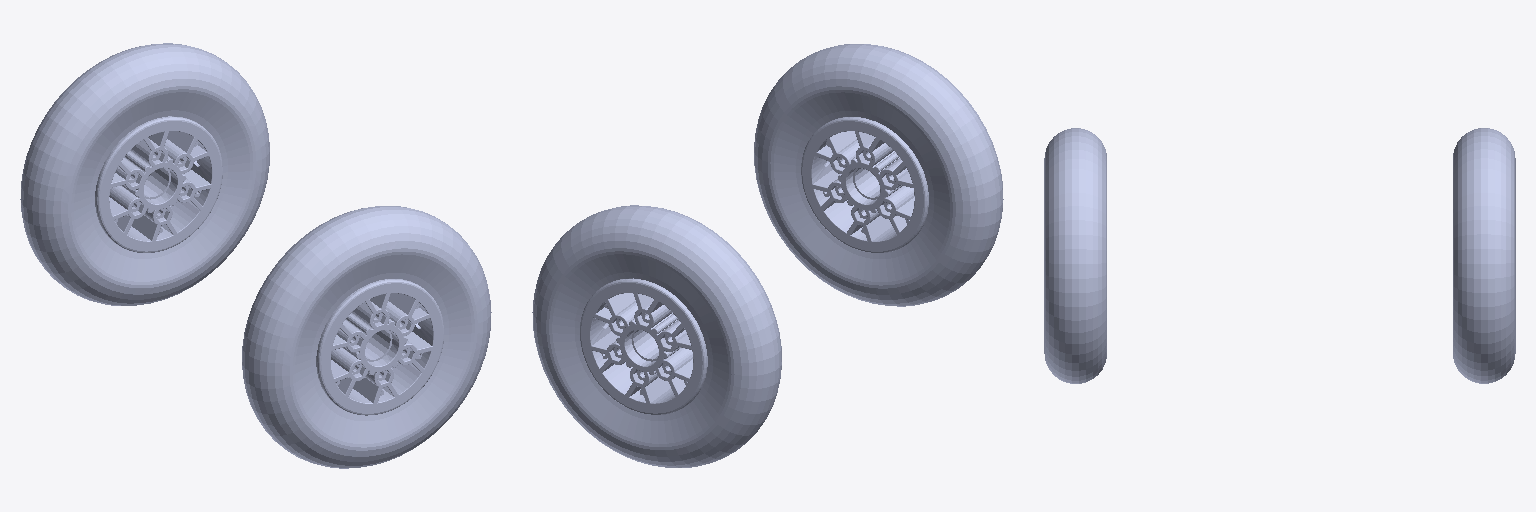
The robot description file, URDF, robot "trx_robot":
<robot
  name="trx_robot">
  <link
    name="base_footprint" />
  <joint
    name="base_footprint_joint"
    type="fixed">
    <origin
      xyz="0 0 0.1249217"
      rpy="0 0 0" />
    <parent
      link="base_footprint" />
    <child
      link="base_link" />
    <axis
      xyz="0 0 0" />
  </joint>
  <link
    name="base_link">
    <inertial>
      <origin
        xyz="-0.0692440825092598 0.0182922624656937 0.237170529840157"
        rpy="0 0 0" />
      <mass
        value="30" />
        <inertia
          ixx="0.31639"
          ixy="-9.1727E-05"
          ixz="-0.093044"
          iyy="0.17997"
          iyz="5.3231E-05"
          izz="0.16693" />
        </inertial>
    <visual>
      <origin
        xyz="0 0 0"
        rpy="0 0 0" />
      <geometry>
        <mesh
          filename="package://mobilican_description/trx/meshes/base_link.STL" />
      </geometry>
      <material
        name="">
        <color
          rgba="0.792156862745098 0.819607843137255 0.933333333333333 1" />
      </material>
    </visual>
    <collision>
      <origin
        xyz="-0.085 0 0.099"
        rpy="0 0 0" />
      <geometry>
        <box size="0.505 0.49 0.30"/>
      </geometry>
    </collision>
  </link>
  <link
    name="wheel_front_left">
    <inertial>
      <origin
        xyz="-1.21644384353906E-05 5.02355698706047E-09 -9.95261350565096E-07"
        rpy="0 0 0" />
      <mass
        value="1.19468309242743" />
      <inertia
        ixx="7.74298617751514E-12"
        ixy="4.77668429431615E-13"
        ixz="-9.46351217357088E-11"
        iyy="1.16440692697894E-09"
        iyz="3.90815349771352E-14"
        izz="1.15666433532758E-09" />
    </inertial>
    <visual>
      <origin
        xyz="0 0 0"
        rpy="0 0 0" />
      <geometry>
        <mesh
          filename="package://mobilican_description/trx/meshes/wheel.STL" />
      </geometry>
      <material
        name="">
        <color
          rgba="0.792156862745098 0.819607843137255 0.933333333333333 1" />
      </material>
    </visual>
    <collision>
      <origin
        xyz="0 0 0"
        rpy="1.57079632679 0 0" />
      <geometry>
        <cylinder length="0.05" radius="0.1016"/>
      </geometry>
    </collision>
  </link>
  <joint
    name="wheel_front_left_joint"
    type="continuous">
    <origin
      xyz="0 0.161374439975416 -0.0234217078108803"
      rpy="0 0 0" />
    <parent
      link="base_link" />
    <child
      link="wheel_front_left" />
    <axis
      xyz="0 1 0" />
  </joint>
  <link
    name="wheel_front_right">
    <inertial>
      <origin
        xyz="-1.13586030646491E-05 4.63149307794453E-09 4.46980487417472E-06"
        rpy="0 0 0" />
      <mass
        value="1.19468304304187" />
      <inertia
        ixx="1.5617116656522E-10"
        ixy="4.11215238883151E-13"
        ixz="3.96859468487808E-10"
        iyy="1.16466450182379E-09"
        iyz="-1.61820240450466E-13"
        izz="1.00849367060624E-09" />
    </inertial>
    <visual>
      <origin
        xyz="0 0 0"
        rpy="0 0 0" />
      <geometry>
        <mesh
          filename="package://mobilican_description/trx/meshes/wheel.STL" />
      </geometry>
      <material
        name="">
        <color
          rgba="0.792156862745098 0.819607843137255 0.933333333333333 1" />
      </material>
    </visual>
    <collision>
      <origin
        xyz="0 0 0"
        rpy="1.57079632679 0 0" />
      <geometry>
        <cylinder length="0.05" radius="0.1016"/>
      </geometry>
    </collision>
  </link>
  <joint
    name="wheel_front_right_joint"
    type="continuous">
    <origin
      xyz="0 -0.162374439255704 -0.0236218050730315"
      rpy="0 0 0" />
    <parent
      link="base_link" />
    <child
      link="wheel_front_right" />
    <axis
      xyz="0 1 0" />
  </joint>
  <link
    name="wheel_rear_right" >
    <collision>
      <origin
        xyz="0 0 0"
        rpy="1.57079632679 0 0" />
      <geometry>
        <cylinder length="0.05" radius="0.05"/>
      </geometry>
    </collision>
  </link>
  <joint
    name="wheel_rear_right_joint"
    type="fixed">
    <origin
      xyz="-0.271003476510462 -0.162949999975416 -0.0745000000000001"
      rpy="0 0 0" />
    <parent
      link="base_link" />
    <child
      link="wheel_rear_right" />
    <axis
      xyz="0 0 0" />
  </joint>
  <link
    name="wheel_rear_left" >
    <collision>
      <origin
        xyz="0 0 0"
        rpy="1.57079632679 0 0" />
      <geometry>
        <cylinder length="0.05" radius="0.05"/>
      </geometry>
    </collision>
  </link>
  <joint
    name="wheel_rear_left_joint"
    type="fixed">
    <origin
      xyz="-0.271003476510462 0.163449999975415 -0.074499999999999"
      rpy="0 0 0" />
    <parent
      link="base_link" />
    <child
      link="wheel_rear_left" />
    <axis
      xyz="0 0 0" />
  </joint>
  <link
    name="top_cam" />
  <joint
    name="top_cam_joint"
    type="fixed">
    <origin
      xyz="-0.172253476510556 0.041150000000327 1.637"
      rpy="0 0 -1.5707963267949" />
    <parent
      link="base_link" />
    <child
      link="top_cam" />
    <axis
      xyz="0 0 0" />
  </joint>
  <link
    name="middle_cam" />
  <joint
    name="middle_cam_joint"
    type="fixed">
    <origin
      xyz="-0.172253476510554 0.0411500000003268 1.025"
      rpy="1.5707963267949 0 -1.5707963267949" />
    <parent
      link="base_link" />
    <child
      link="middle_cam" />
    <axis
      xyz="0 0 0" />
  </joint>
  <link
    name="bottom_cam" />
  <joint
    name="bottom_cam_joint"
    type="fixed">
    <origin
      xyz="-0.172253476510552 0.0411500000003266 0.413"
      rpy="1.5707963267949 0 -1.5707963267949" />
    <parent
      link="base_link" />
    <child
      link="bottom_cam" />
    <axis
      xyz="0 0 0" />
  </joint>
  <link
    name="urf_right" />
  <joint
    name="urf_right_joint"
    type="fixed">
    <origin
      xyz="-0.144341676509997 -0.256667800000231 0.133209200000233"
      rpy="0 1.35106767363053E-15 -1.5707963267949" />
    <parent
      link="base_link" />
    <child
      link="urf_right" />
    <axis
      xyz="0 0 0" />
  </joint>
  <link
    name="urf_front" />
  <joint
    name="urf_front_joint"
    type="fixed">
    <origin
      xyz="0.17884165009831 -0.00158789542081382 0.133211187882727"
      rpy="0 0 0" />
    <parent
      link="base_link" />
    <child
      link="urf_front" />
    <axis
      xyz="0 0 0" />
  </joint>
  <link
    name="urf_left" />
  <joint
    name="urf_left_joint"
    type="fixed">
    <origin
      xyz="-0.141165581089183 0.261667800000231 0.133211187882727"
      rpy="0 2.14569775825973E-15 1.5707963267949" />
    <parent
      link="base_link" />
    <child
      link="urf_left" />
    <axis
      xyz="0 0 0" />
  </joint>
  <link
    name="depth_cam" />
  <joint
    name="depth_cam_joint"
    type="fixed">
    <origin
      xyz="0.157059201989492 0.00610692694567507 0.230098853117374"
      rpy="0 0 0" />
    <parent
      link="base_link" />
    <child
      link="depth_cam" />
    <axis
      xyz="0 0 0" />
  </joint>
  <link
    name="lidar" />
  <joint
    name="lidar_joint"
    type="fixed">
    <origin
      xyz="0.0892465234900025 -0.00125000000023005 0.328054161265183"
      rpy="-1.5707963267949 0 0" />
    <parent
      link="base_link" />
    <child
      link="lidar" />
    <axis
      xyz="0 0 0" />
  </joint>

</robot>

--- What the picture shows (computed from the rendered views, not written in the file) ---
The picture shows the robot from 3 angles, left to right: view 1: azimuth 30°, elevation 25°; view 2: azimuth 150°, elevation 25°; view 3: azimuth 270°, elevation 25°; orthographic projection.
Robot: trx_robot — 14 links, 13 joints (2 continuous, 11 fixed); root link base_footprint; default pose: every joint at zero.
Visible links, largest first — view 1: wheel_front_left, wheel_front_right; view 2: wheel_front_left, wheel_front_right; view 3: wheel_front_left, wheel_front_right.
Boxes of the visible links, left/top/right/bottom form: wheel_front_left: left=20, top=43, right=269, bottom=305; wheel_front_right: left=242, top=206, right=491, bottom=468; wheel_front_left: left=532, top=205, right=781, bottom=467; wheel_front_right: left=754, top=44, right=1003, bottom=306; wheel_front_left: left=1453, top=128, right=1515, bottom=383; wheel_front_right: left=1044, top=128, right=1106, bottom=383.
Bounding box of the posed robot: 0.2028 × 0.3735 × 0.203 m (x, y, z).
Meshes: 2 distinct files referenced, 2 mesh visuals loaded (1 binary STL); not drawn: 1 (reference not matched to a file when rendering).